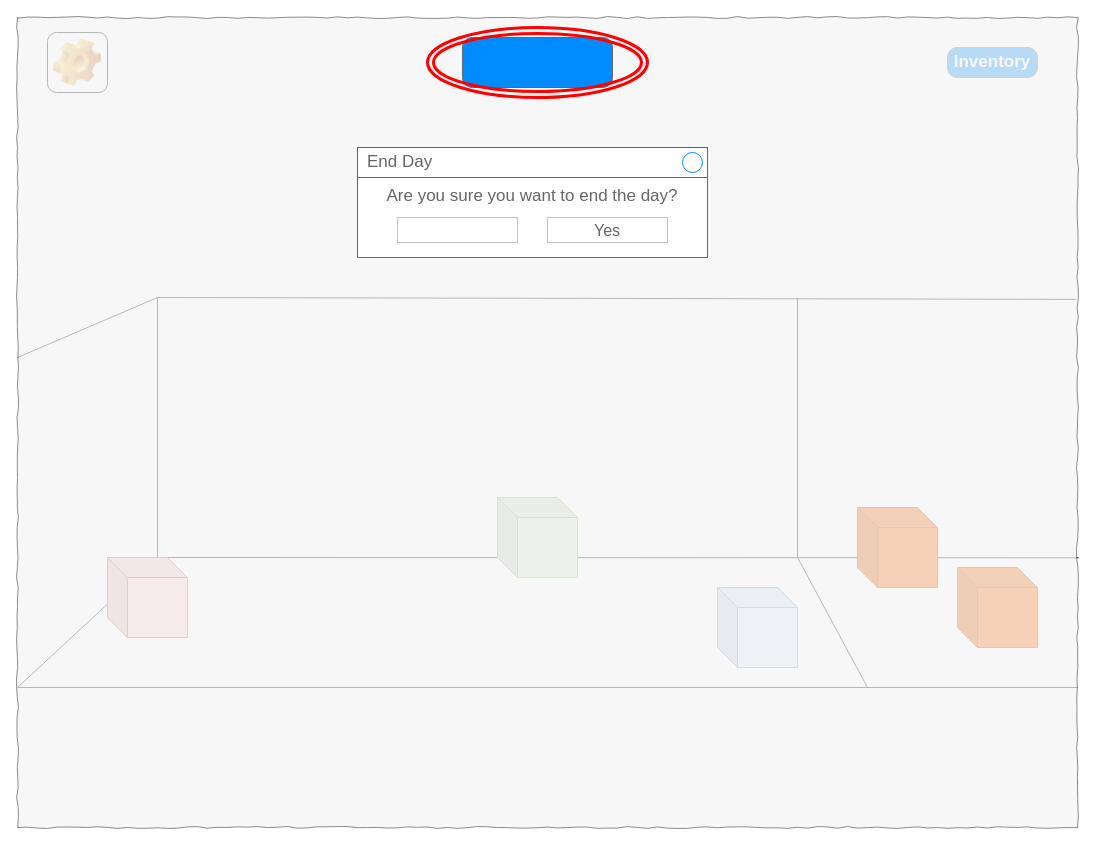
This 1098x845 diagram has some shape labels left out. Each missing label, with the centre of its shape:
"End the day" belongs at pixel 537 62.
"No" belongs at pixel 457 229.
